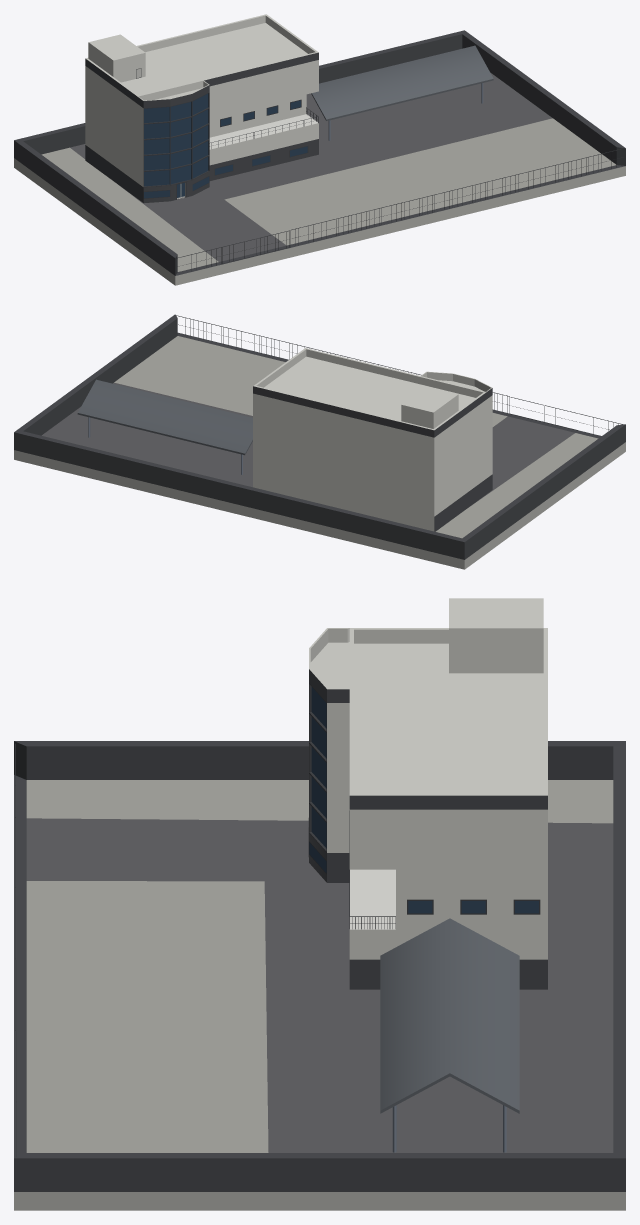
The model's file is delegacia_frank.glb.
3 renders of one model, top to bottom at view 1: azimuth 30°, elevation 25°; view 2: azimuth 150°, elevation 25°; view 3: azimuth 270°, elevation 25°, orthographic. The views are drawn at different scales.
Parts seen in each view (by area): view 1: 10___Default, wire_008110135, 09___Default, wire_057008136, 08___Default, 02___Default, 07___Default, Material__295, 01___Default, Material__292, Material__293, Material__7; view 2: wire_008110135, 10___Default, 09___Default, Material__292, wire_057008136, 08___Default, Material__296, 07___Default, Material__293, 01___Default; view 3: 09___Default, 10___Default, wire_008110135, wire_057008136, 08___Default, Material__294, 07___Default, Material__292, 02___Default, Material__7, 01___Default.
Part boxes in pixels (box(x1,y1,x2,y2)): 10___Default: box(41, 118, 615, 271); wire_008110135: box(85, 14, 318, 186); 09___Default: box(70, 72, 552, 261); wire_057008136: box(14, 30, 625, 275); 08___Default: box(311, 45, 493, 120); 02___Default: box(144, 93, 307, 198); 07___Default: box(85, 52, 318, 203); Material__295: box(175, 166, 625, 285); 01___Default: box(136, 68, 623, 271); Material__292: box(175, 147, 625, 275); Material__293: box(14, 158, 175, 285); Material__7: box(179, 114, 317, 198); wire_008110135: box(253, 348, 492, 531); 10___Default: box(114, 336, 598, 538); 09___Default: box(42, 382, 574, 506); Material__292: box(14, 332, 601, 559); wire_057008136: box(14, 314, 625, 559); 08___Default: box(77, 379, 252, 455); Material__296: box(14, 450, 464, 569); 07___Default: box(253, 386, 492, 531); Material__293: box(464, 442, 625, 569); 01___Default: box(176, 315, 622, 433); 09___Default: box(26, 818, 613, 1152); 10___Default: box(26, 780, 613, 1152); wire_008110135: box(309, 598, 547, 959); wire_057008136: box(14, 741, 625, 1191); 08___Default: box(380, 918, 519, 1113); Material__294: box(14, 1192, 625, 1210); 07___Default: box(309, 669, 547, 989); Material__292: box(14, 741, 26, 1157); 02___Default: box(309, 687, 538, 913); Material__7: box(350, 869, 395, 929); 01___Default: box(15, 683, 540, 1157).
Size of the model in its own units: 58.74 by 16 by 36.41.
